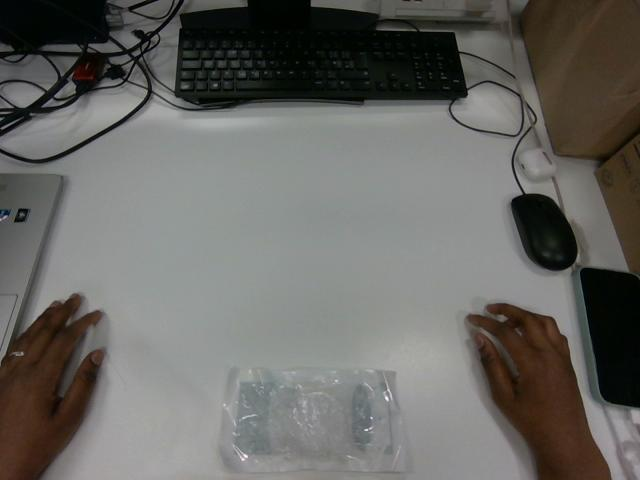gallipot: (220, 368, 404, 472)
